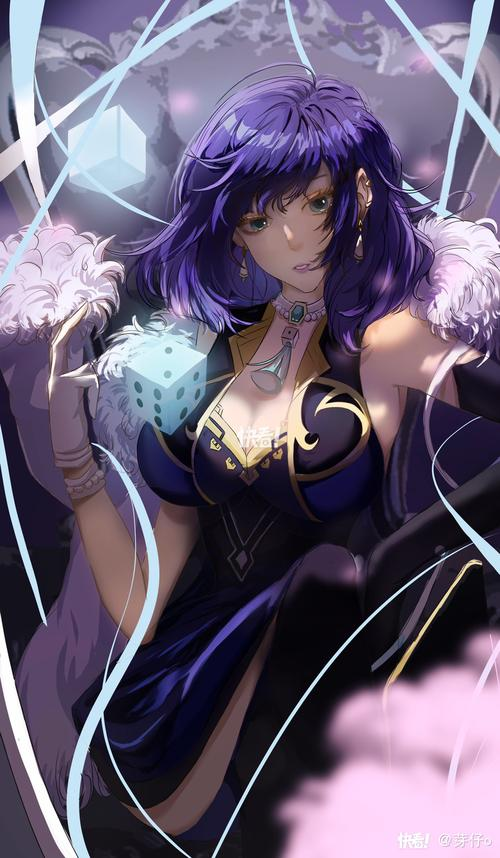夜兰: (59, 78, 500, 856)
